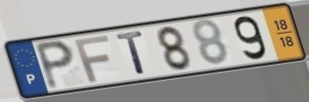8: (190, 18, 234, 69), (156, 25, 192, 73)
9: (232, 14, 268, 61)
F: (72, 34, 112, 84)
P: (33, 39, 77, 93)
T: (114, 29, 149, 77)
